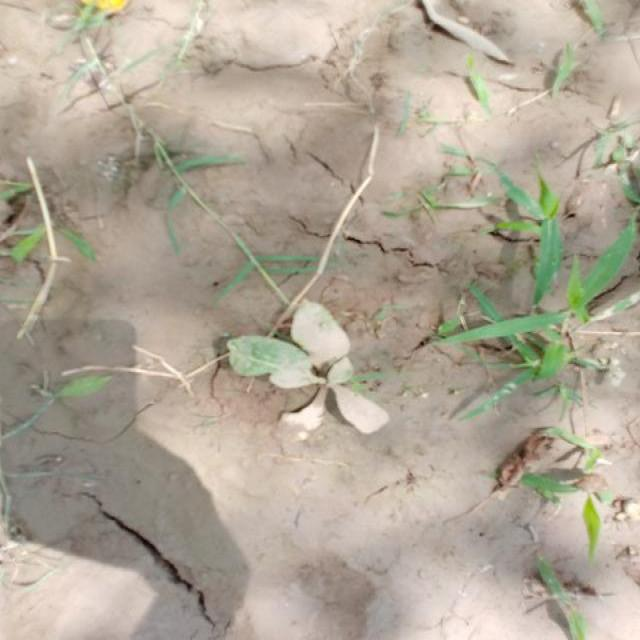crop: (223, 300, 391, 435)
